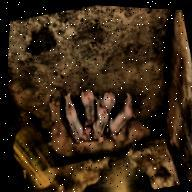boar: (35, 74, 159, 176)
